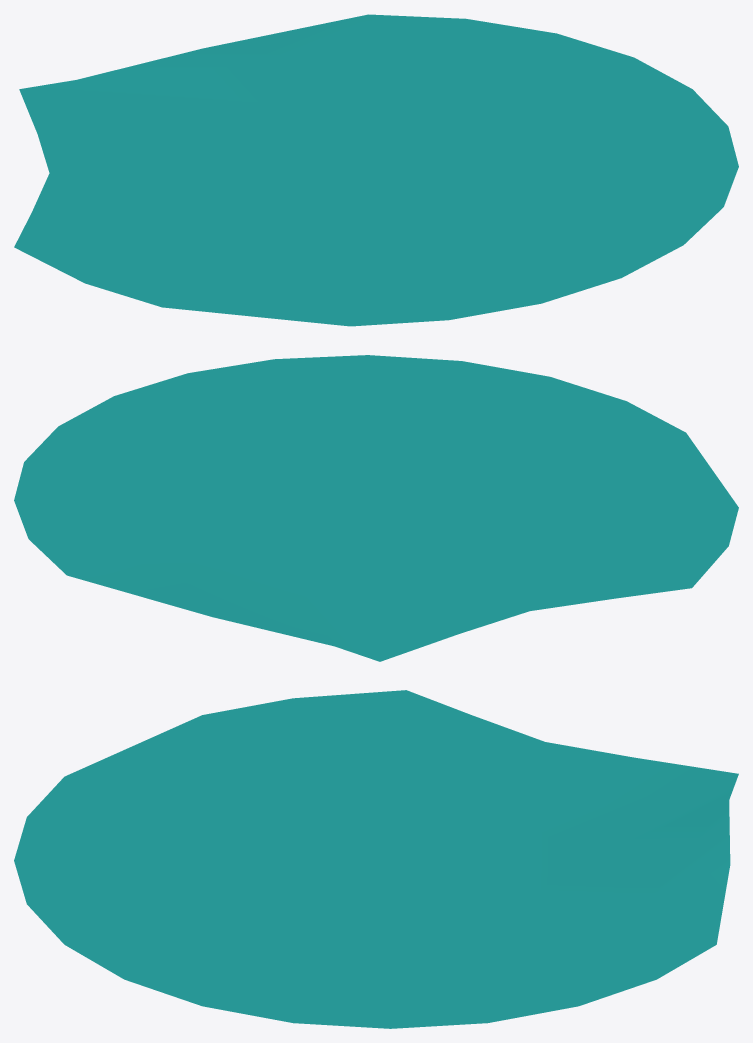
Rendered from grape_color_15.fbx.
3 views of the same model, one above another, from view 1: azimuth 30°, elevation 25°; view 2: azimuth 150°, elevation 25°; view 3: azimuth 270°, elevation 25° (orthographic). The views are drawn at different scales.
Parts seen in each view (by area): view 1: grape_color_15; view 2: grape_color_15; view 3: grape_color_15.
Part boxes in pixels (left/top/right/bottom): grape_color_15: left=14, top=14, right=738, bottom=326; grape_color_15: left=14, top=355, right=738, bottom=661; grape_color_15: left=14, top=690, right=738, bottom=1028.
Size of the model in its own units: 20.31 by 0 by 18.37.
